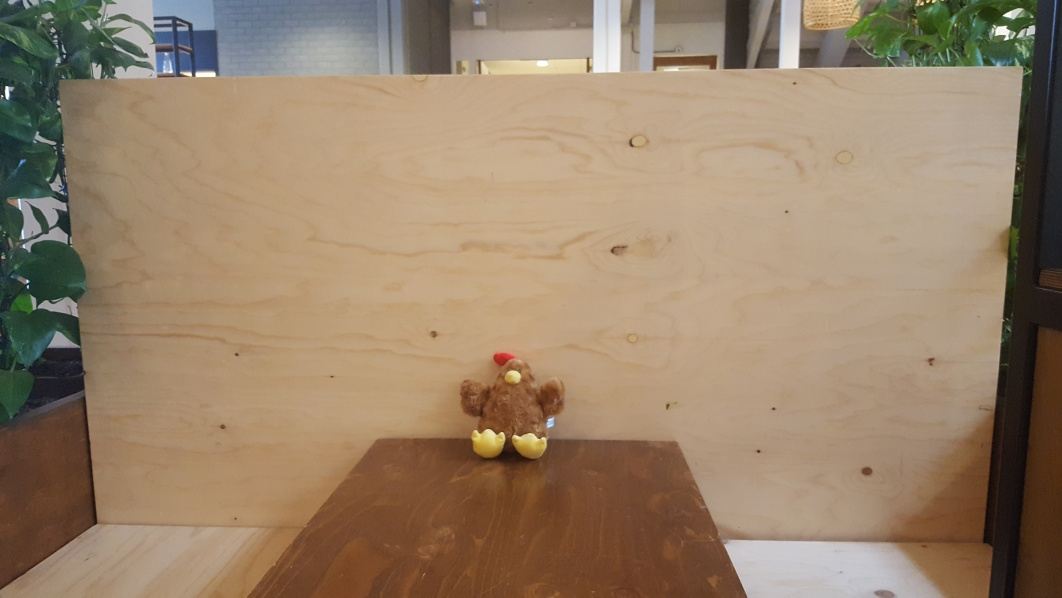chicken: (456, 351, 569, 462)
